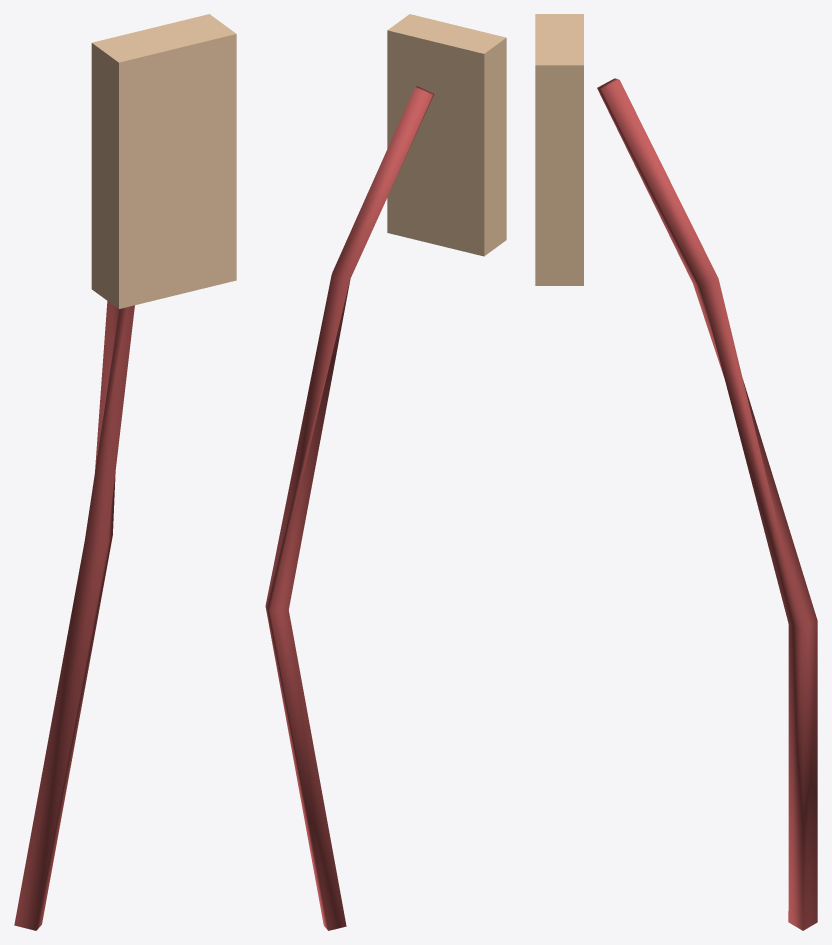
The model's file is leash_hook.glb.
3 views of the same model, side by side, from view 1: azimuth 30°, elevation 25°; view 2: azimuth 150°, elevation 25°; view 3: azimuth 270°, elevation 25° (orthographic). The views are drawn at different scales.
Visible parts, largest first — view 1: leash_hook; view 2: leash_hook; view 3: leash_hook.
Part boxes in pixels (box(x1,y1,x2,y2)): leash_hook: box(14, 14, 236, 930); leash_hook: box(265, 14, 506, 930); leash_hook: box(535, 14, 817, 930).
Size of the model in its own units: 0.061 by 0.4012 by 0.116.
